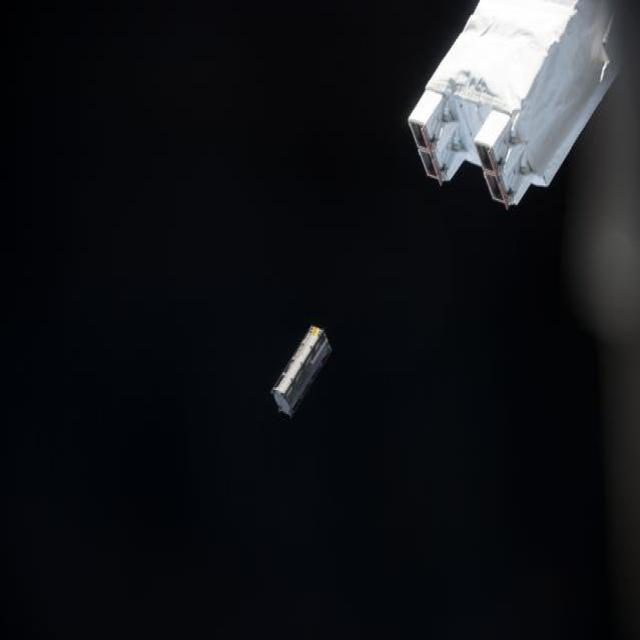medium_debris: (409, 0, 618, 208), (272, 325, 331, 416)
